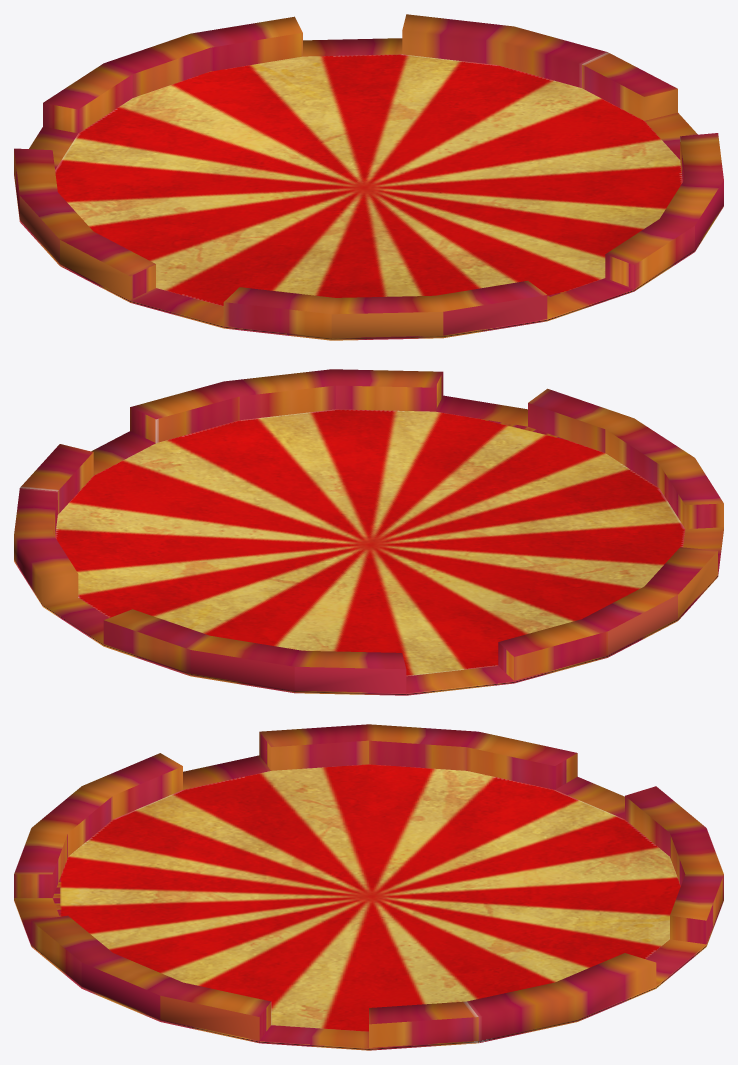
Rendered from Ring.fbx.
3 renders of one model, top to bottom at view 1: azimuth 30°, elevation 25°; view 2: azimuth 150°, elevation 25°; view 3: azimuth 270°, elevation 25°, orthographic.
Visible parts, largest first — view 1: pCylinder1; view 2: pCylinder1; view 3: pCylinder1.
Part boxes in pixels (x1,y1,x2,y2): pCylinder1: [14, 14, 723, 340]; pCylinder1: [14, 369, 723, 695]; pCylinder1: [14, 724, 723, 1050].
Size of the model in its own units: 9.59 by 0.3921 by 9.59.
